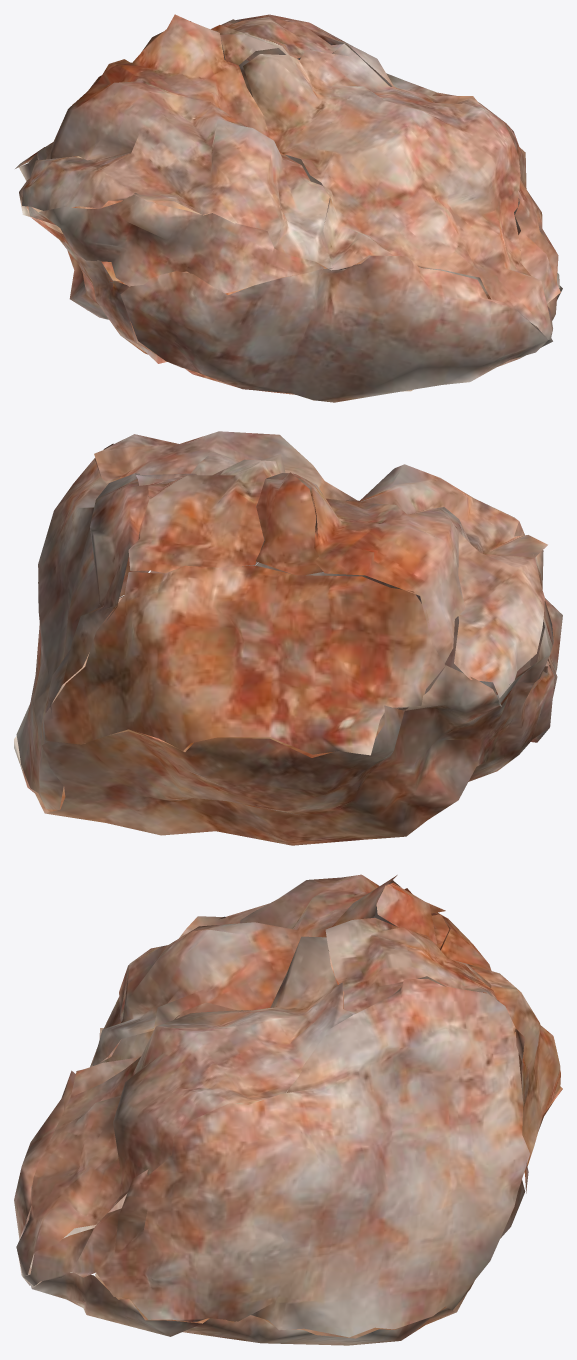
File: namaqualand_rocks_01_v1.glb
3 views of the same model, one above another, from view 1: azimuth 30°, elevation 25°; view 2: azimuth 150°, elevation 25°; view 3: azimuth 270°, elevation 25° (orthographic). The views are drawn at different scales.
Parts seen in each view (by area): view 1: lod0; view 2: lod0; view 3: lod0.
Part boxes in pixels (bbox=[...]): lod0: bbox=[15, 14, 562, 402]; lod0: bbox=[14, 431, 562, 845]; lod0: bbox=[14, 874, 562, 1345].
Size of what is drawn, in the model's own units: 0.2302 by 0.1546 by 0.2158.
1 material, 1 textured.
